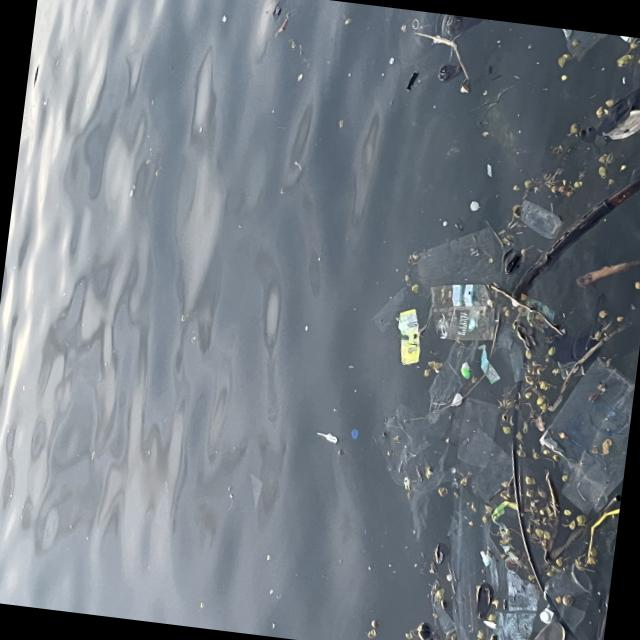foam: (482, 620, 498, 630)
plastic bag: (428, 282, 499, 342), (395, 309, 422, 366)
